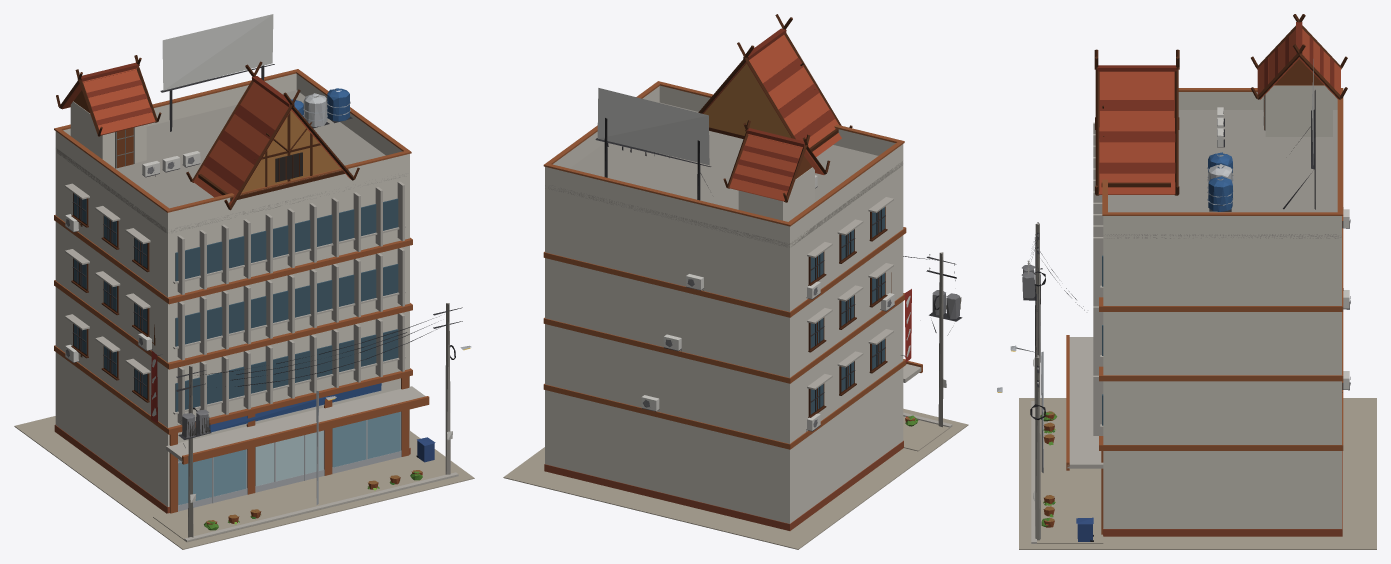
The model's file is shop_4.glb.
3 renders of one model, left to right at view 1: azimuth 30°, elevation 25°; view 2: azimuth 150°, elevation 25°; view 3: azimuth 270°, elevation 25°, orthographic. The views are drawn at different scales.
Parts seen in each view (by area): view 1: body, windows; view 2: body, windows; view 3: body.
Part boxes in pixels (x1,y1,x2,y2): body: (14,14,474,549); windows: (73,152,470,411); body: (503,14,968,549); windows: (810,207,884,414); body: (997,14,1376,549).
Size of the model in its own units: 15.9 by 21.02 by 16.88.
